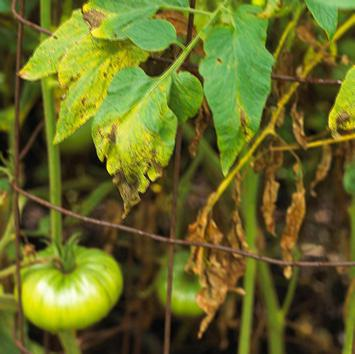Tomato Septoria leaf spot: (89, 71, 178, 214), (53, 23, 150, 150), (12, 0, 126, 93)
